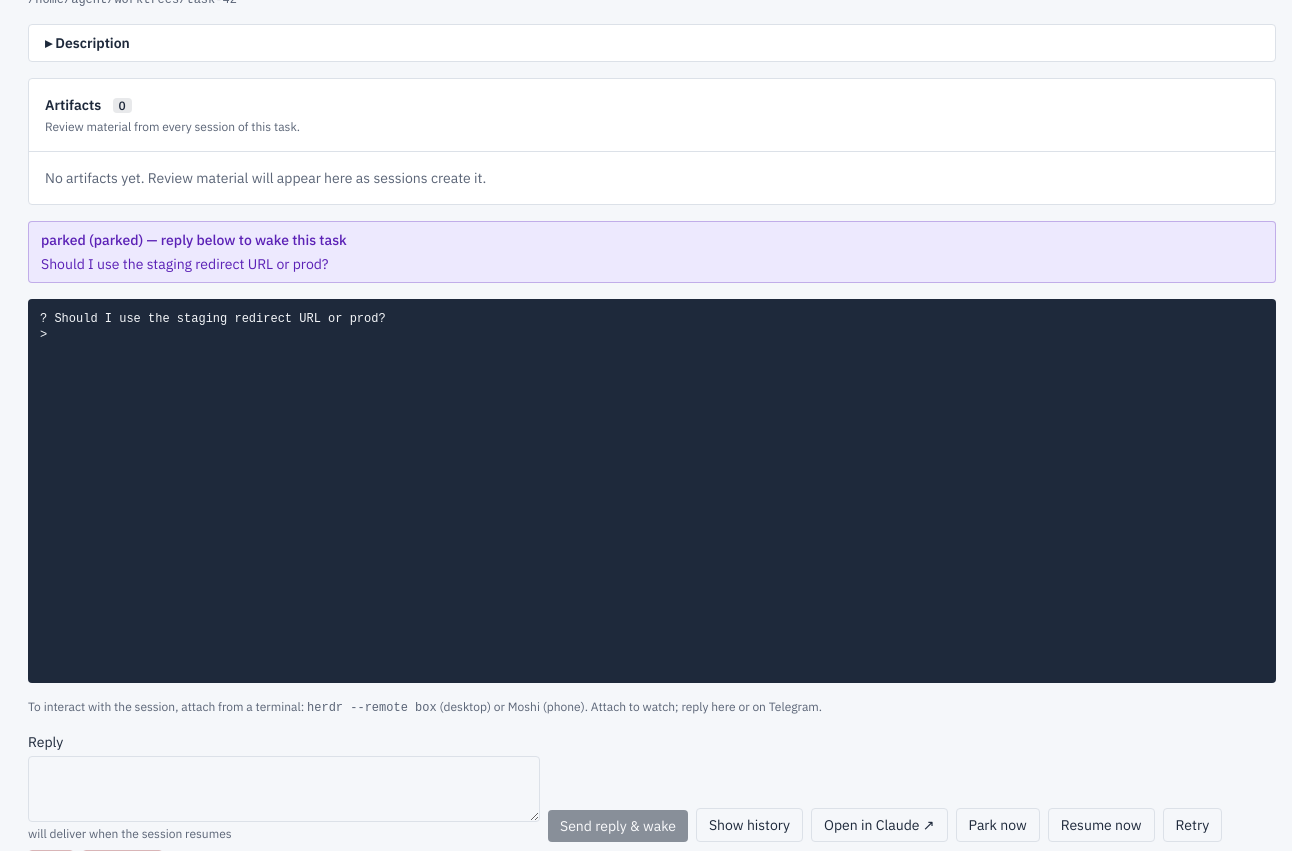
history state does not carry over to the next task navigated to
The width and height of the screenshot is (1292, 851).
(page scrolled)
Click the button "Show history" at (750, 825), box [696, 808, 803, 842]
(page scrolled)
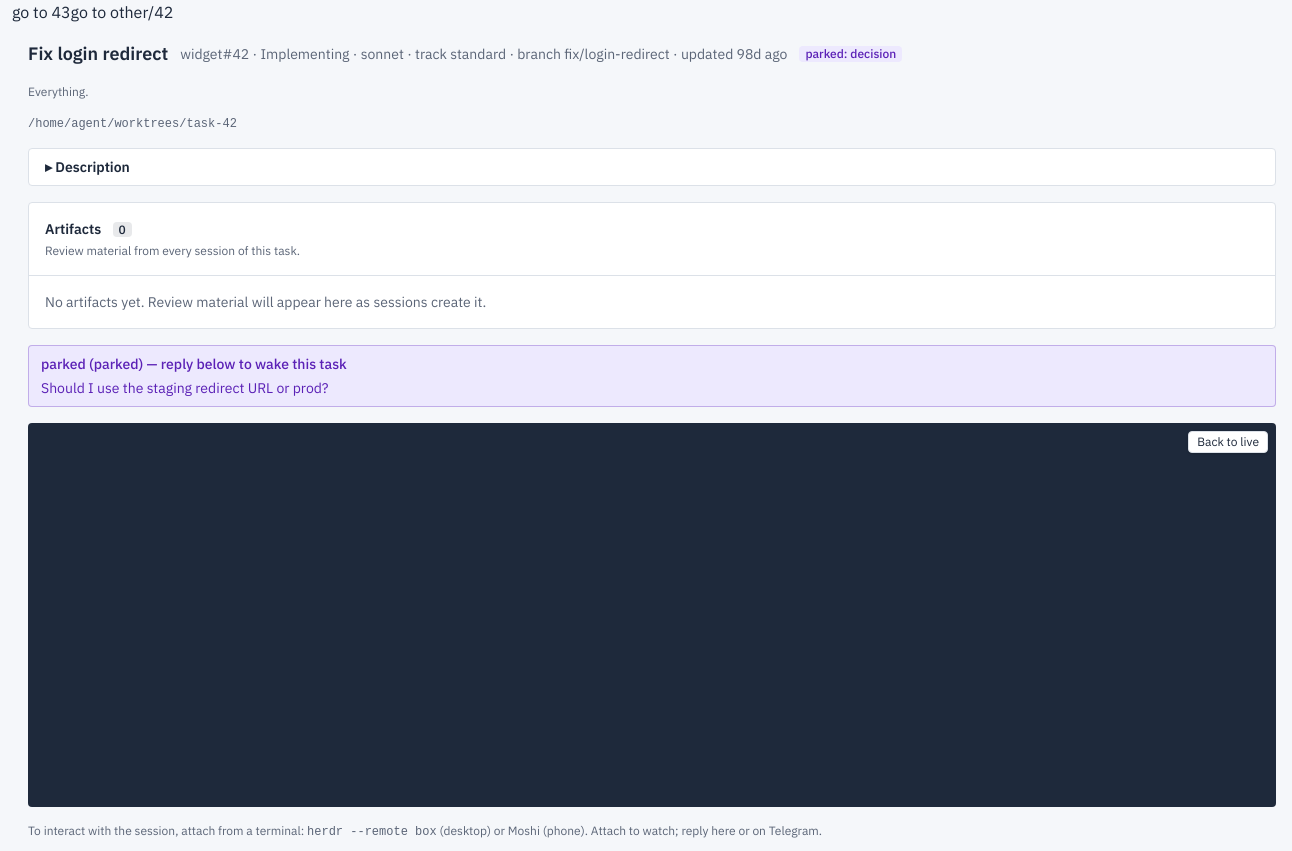
Click the link "go to 43" at (41, 12), box [12, 2, 71, 22]
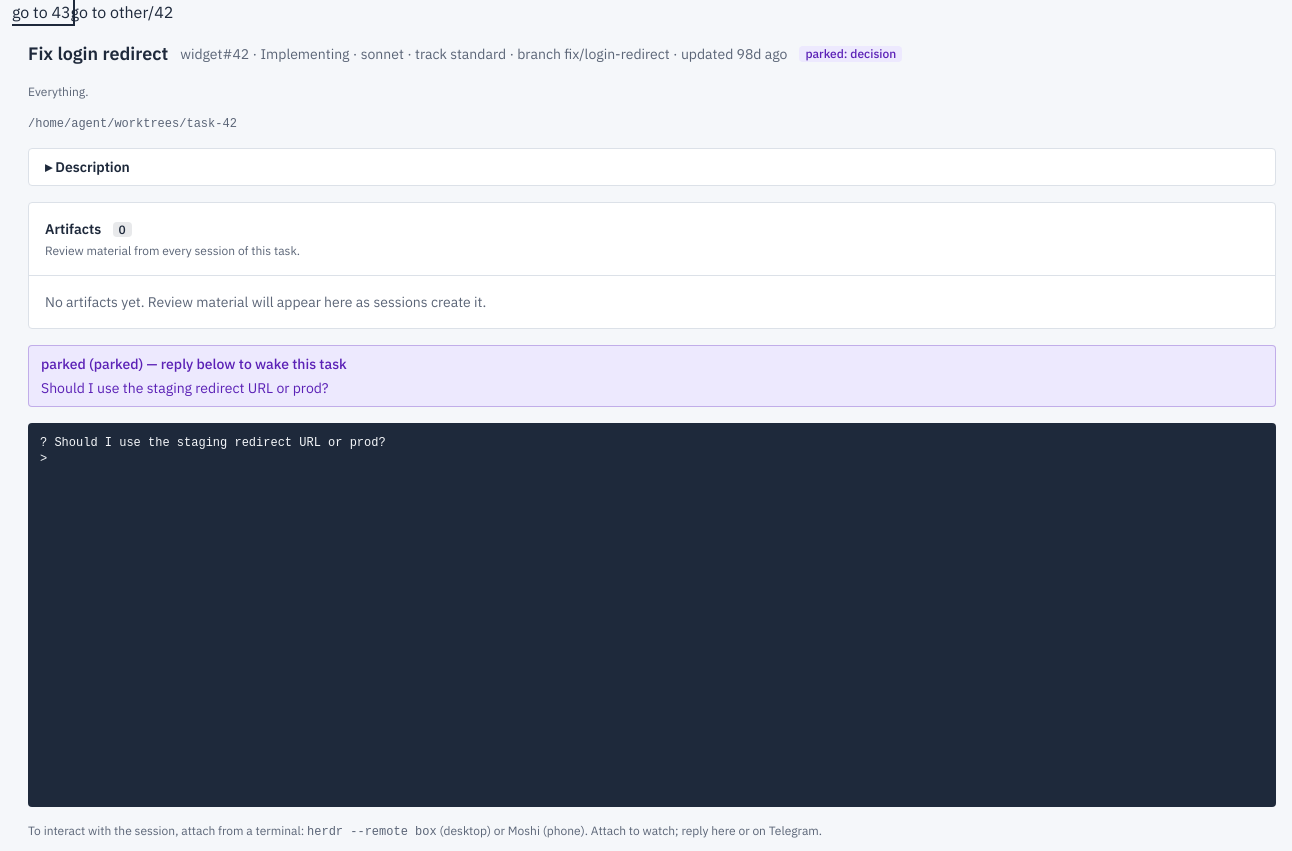
Expected: the text "? Should I use the staging redirect URL or prod? >" is shown, [28, 423, 1276, 807]
